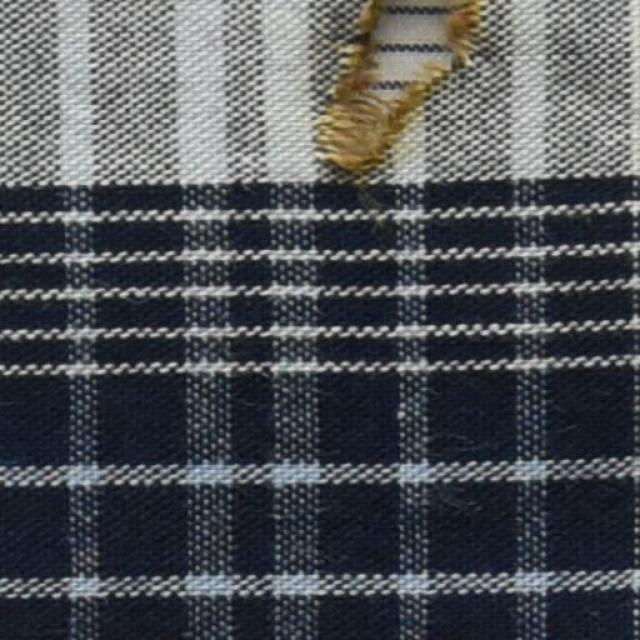Hole: (381, 0, 461, 85)
Stain: (311, 0, 476, 203)
